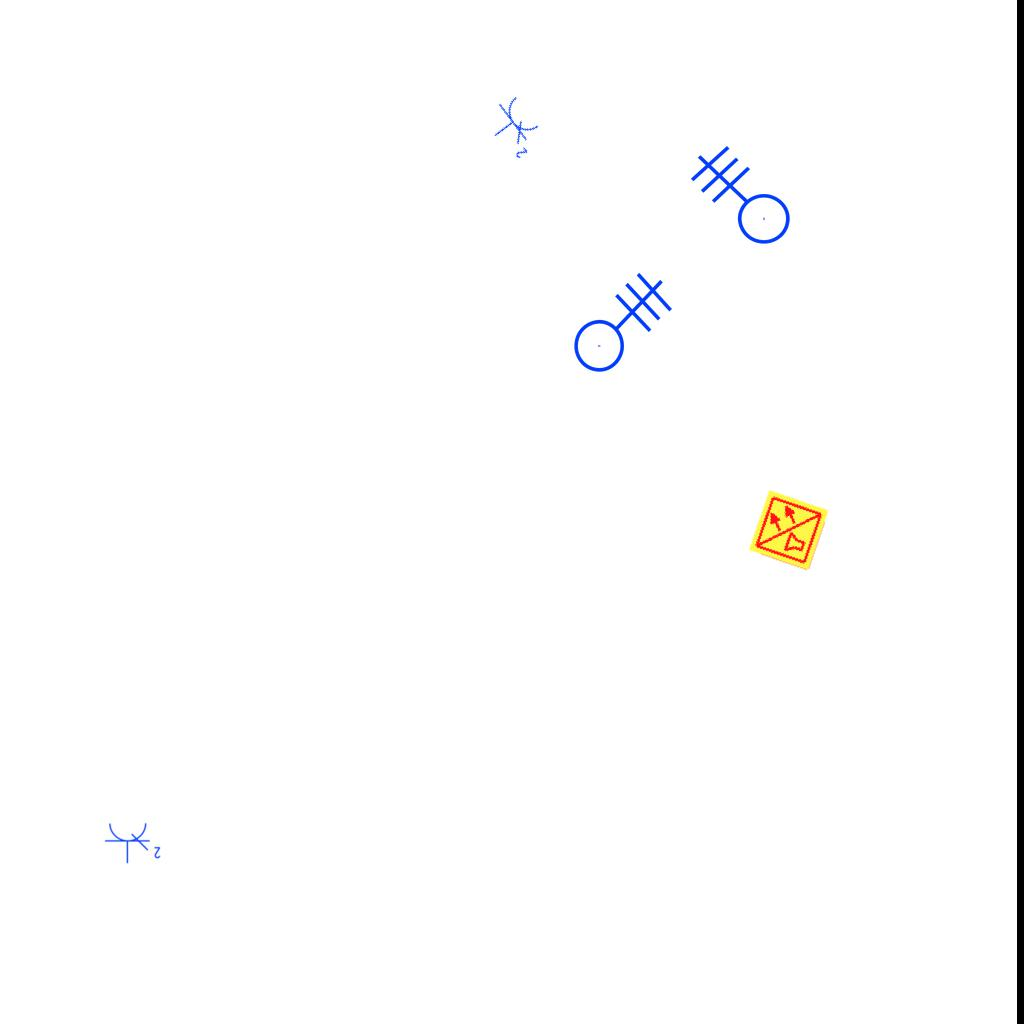Elektroanschluss_allgemein_400V_Geraeteanschlussdose_400V: (557, 260, 673, 373), (678, 145, 791, 261)
OKW_Multisensormelder_(Kombination_optischer_Rauch-Kahlenmonoxid_Waerme-Melder): (747, 488, 831, 572)
Schukosteckdose_mehrfach: (480, 90, 552, 166), (104, 820, 164, 864)
